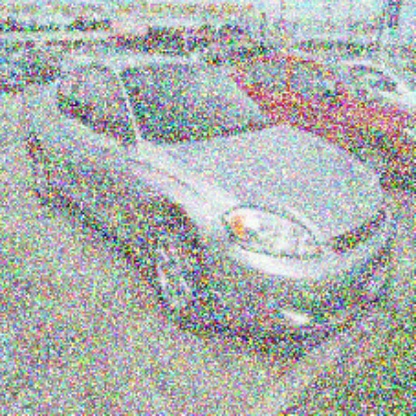Vehicle: (24, 56, 398, 347)
